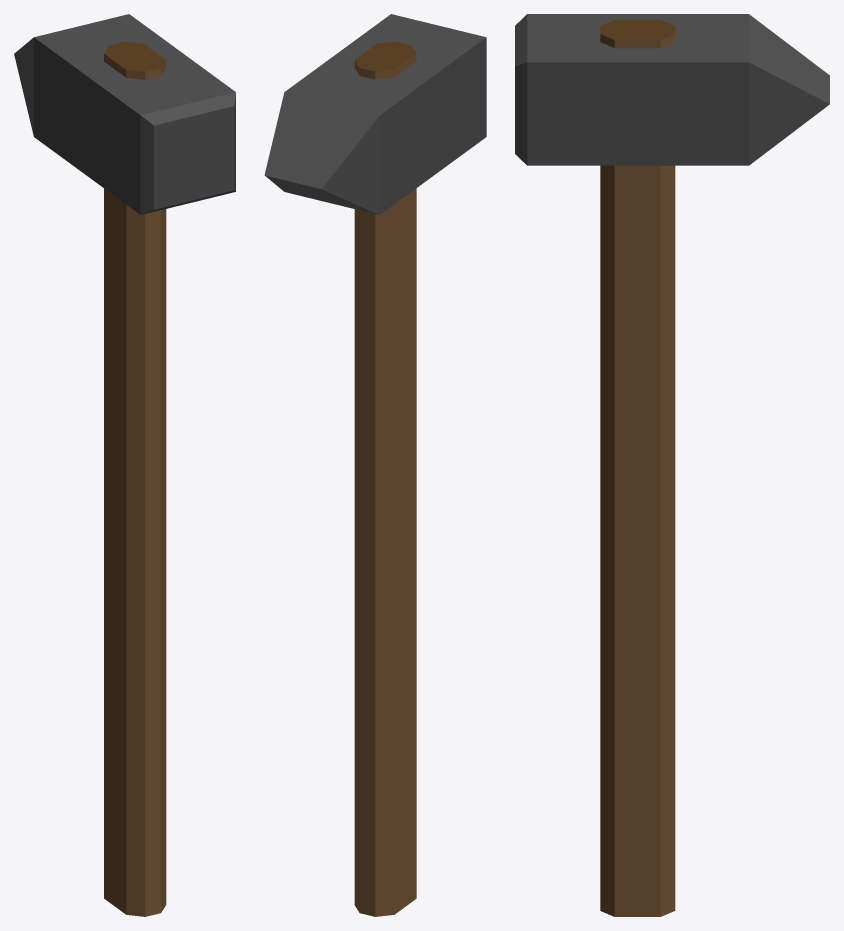
The model's file is hammer_1.fbx.
3 renders of one model, left to right at view 1: azimuth 30°, elevation 25°; view 2: azimuth 150°, elevation 25°; view 3: azimuth 270°, elevation 25°, orthographic. The views are drawn at different scales.
Visible parts, largest first — view 1: hammer_1; view 2: hammer_1; view 3: hammer_1.
Part boxes in pixels (bbox=[...]): hammer_1: bbox=[14, 14, 235, 916]; hammer_1: bbox=[264, 14, 486, 916]; hammer_1: bbox=[515, 14, 829, 916].
Size of the model in its own units: 8.81 by 74.65 by 24.3.
Materials: 1 (1 with a texture image).
